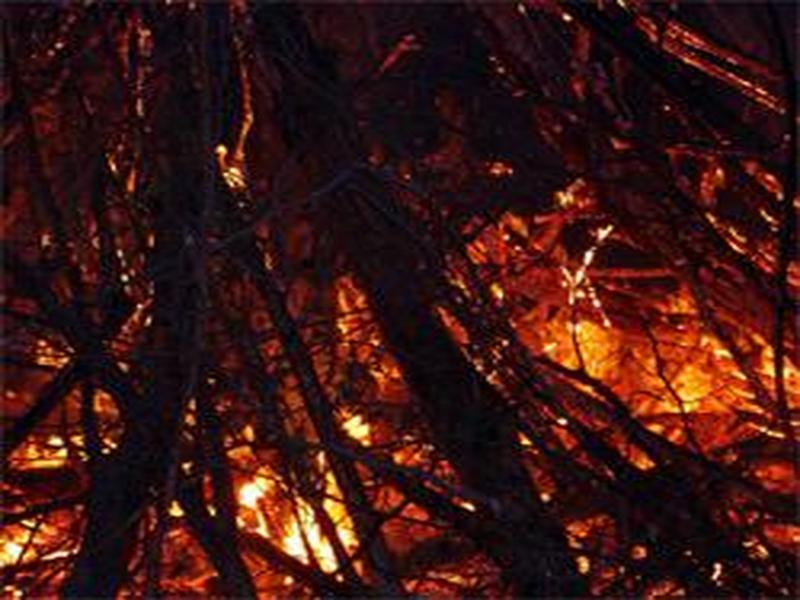FIRE: (12, 273, 726, 600)
